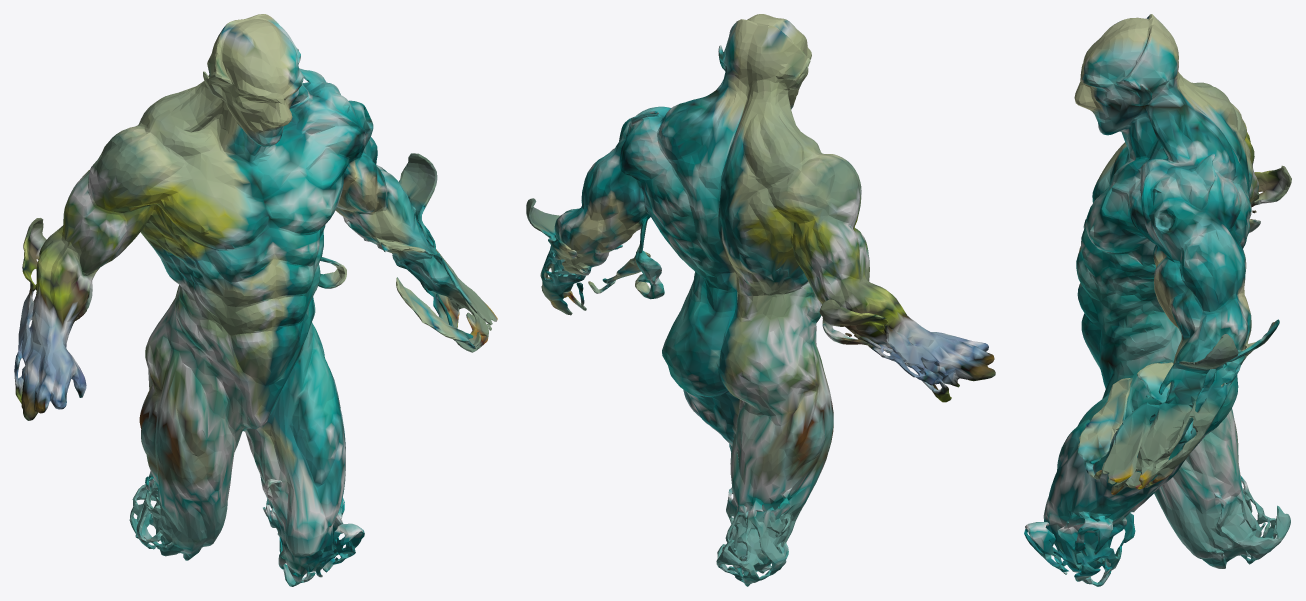
The model's file is imp.glb.
3 views of the same model, side by side, from view 1: azimuth 30°, elevation 25°; view 2: azimuth 150°, elevation 25°; view 3: azimuth 270°, elevation 25° (orthographic). The views are drawn at different scales.
Visible parts, largest first — view 1: world; view 2: world; view 3: world.
Boxes of the visible parts, x1,y1,x2,y2 form: world: (14,14,497,586); world: (526,14,995,586); world: (1024,14,1291,586).
Bounding box in the file's own units: 0.8829 × 1 × 0.4337.
